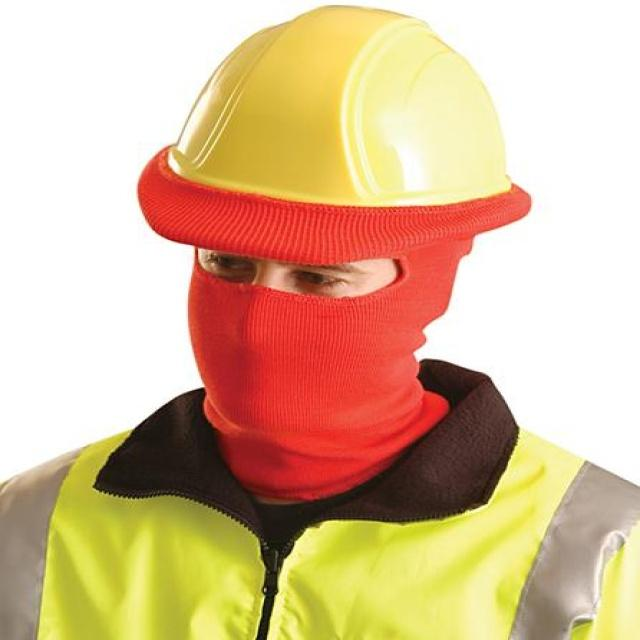helmet: (139, 6, 536, 598)
